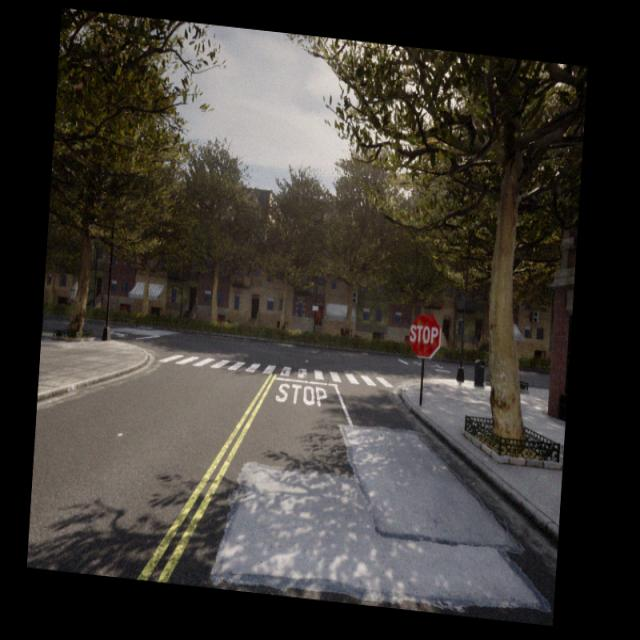stop sign: (406, 310, 443, 360), (409, 322, 439, 346)
